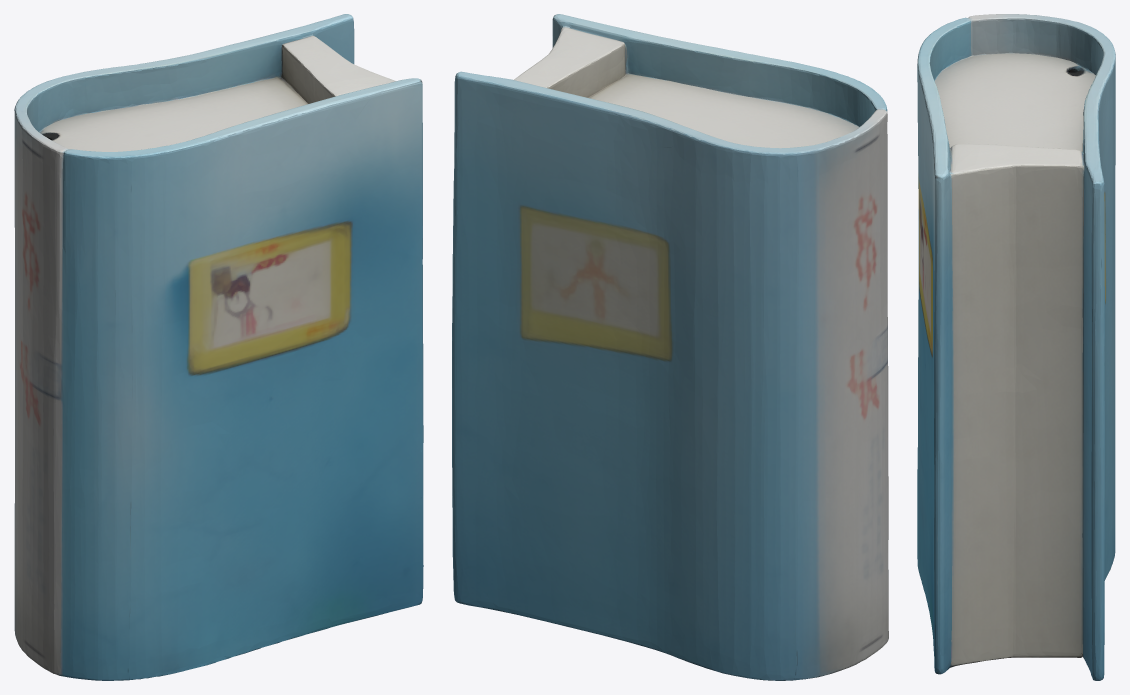
The model's file is 1777800651164_book.glb.
3 views of the same model, side by side, from view 1: azimuth 30°, elevation 25°; view 2: azimuth 150°, elevation 25°; view 3: azimuth 270°, elevation 25° (orthographic). The views are drawn at different scales.
Visible parts, largest first — view 1: world; view 2: world; view 3: world.
Boxes of the visible parts, <box> form: world: <box>14,14,423,680</box>; world: <box>452,14,888,680</box>; world: <box>917,14,1115,680</box>.
Bounding box in the file's own units: 0.7362 × 1 × 0.3609.
Materials: 1 (1 with a texture image).
